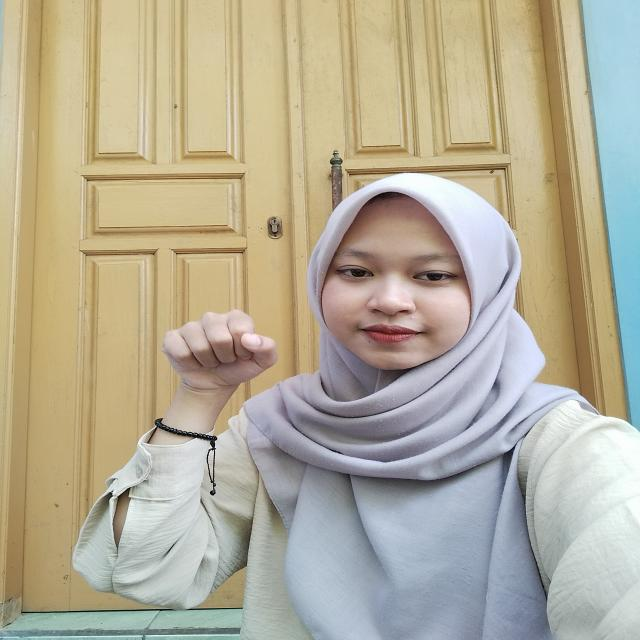baik: (146, 305, 290, 469)
